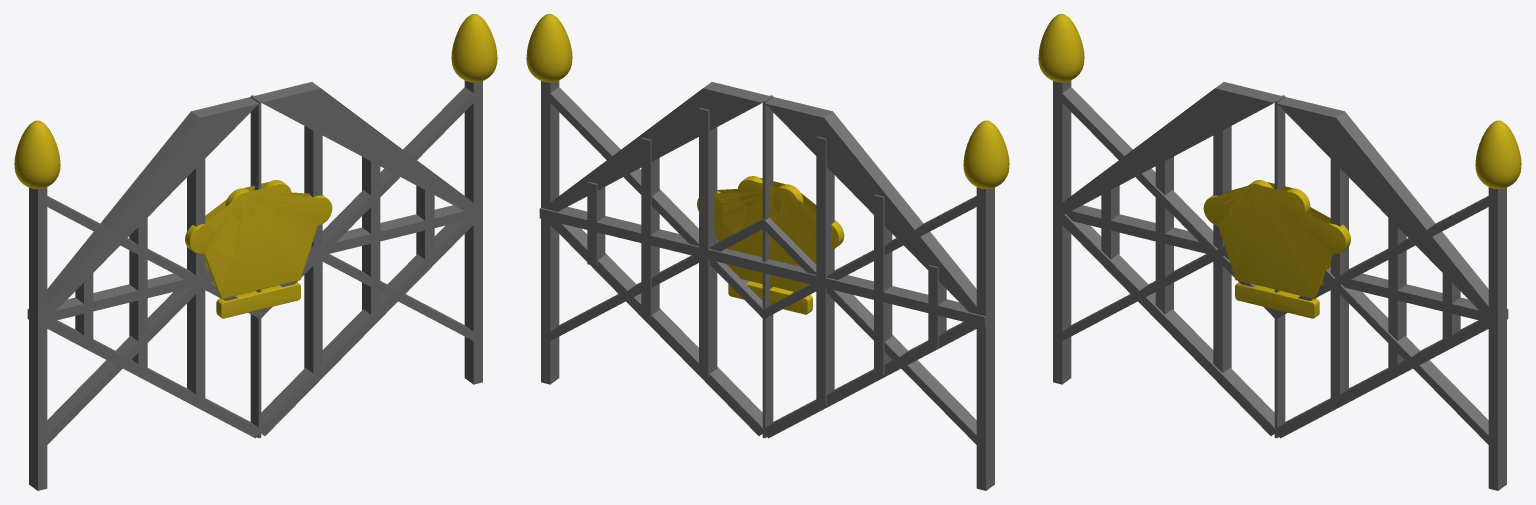
File: Portail.fbx
3 views of the same model, side by side, from view 1: azimuth 30°, elevation 25°; view 2: azimuth 150°, elevation 25°; view 3: azimuth 330°, elevation 25° (orthographic).
Parts seen in each view (by area): view 1: Cube.002, Connect, Cube.001, Cube.003, Cube.006, Cube.004, Cube.005, Sphere, Cube.009, Cube.007, Cube, Cube.008; view 2: Cube.002, Cube.001, Cube.006, Connect, Cube.003, Cube.009, Cube.005, Cube.004, Cube.007, Sphere, Cube, Cube.008; view 3: Cube.002, Connect, Cube.001, Cube.003, Cube.006, Cube.004, Cube.005, Sphere, Cube.009, Cube.007, Cube, Cube.008.
Part boxes in pixels (x1,y1,x2,y2): Cube.002: (42,82,478,317); Connect: (185,180,332,318); Cube.001: (29,80,482,490); Cube.003: (42,213,478,438); Cube.006: (187,126,322,399); Cube.004: (39,87,481,318); Cube.005: (39,246,481,448); Sphere: (14,14,497,188); Cube.009: (27,205,469,324); Cube.007: (129,156,380,368); Cube: (250,95,261,438); Cube.008: (75,185,434,340); Cube.002: (550,82,976,313); Cube.001: (541,80,994,490); Cube.006: (699,108,834,405); Connect: (697,176,844,314); Cube.003: (550,221,976,438); Cube.009: (539,206,993,326); Cube.005: (550,217,976,444); Cube.004: (550,87,976,318); Cube.007: (641,137,892,375); Sphere: (526,14,1009,188); Cube: (762,95,773,438); Cube.008: (587,182,946,349); Cube.002: (1057,82,1493,317); Connect: (1203,180,1350,318); Cube.001: (1053,80,1506,490); Cube.003: (1057,213,1493,438); Cube.006: (1213,126,1348,399); Cube.004: (1054,87,1496,318); Cube.005: (1054,246,1496,448); Sphere: (1038,14,1521,188); Cube.009: (1066,205,1508,324); Cube.007: (1155,156,1406,368); Cube: (1274,95,1285,438); Cube.008: (1101,185,1460,340).
Bounding box in the file's own units: 611 × 449 × 51.27.
